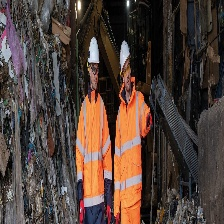helmet: (87, 37, 101, 76), (119, 38, 132, 79)
person: (77, 38, 109, 224), (113, 38, 143, 224)
vest: (77, 86, 110, 221), (114, 96, 142, 224)
